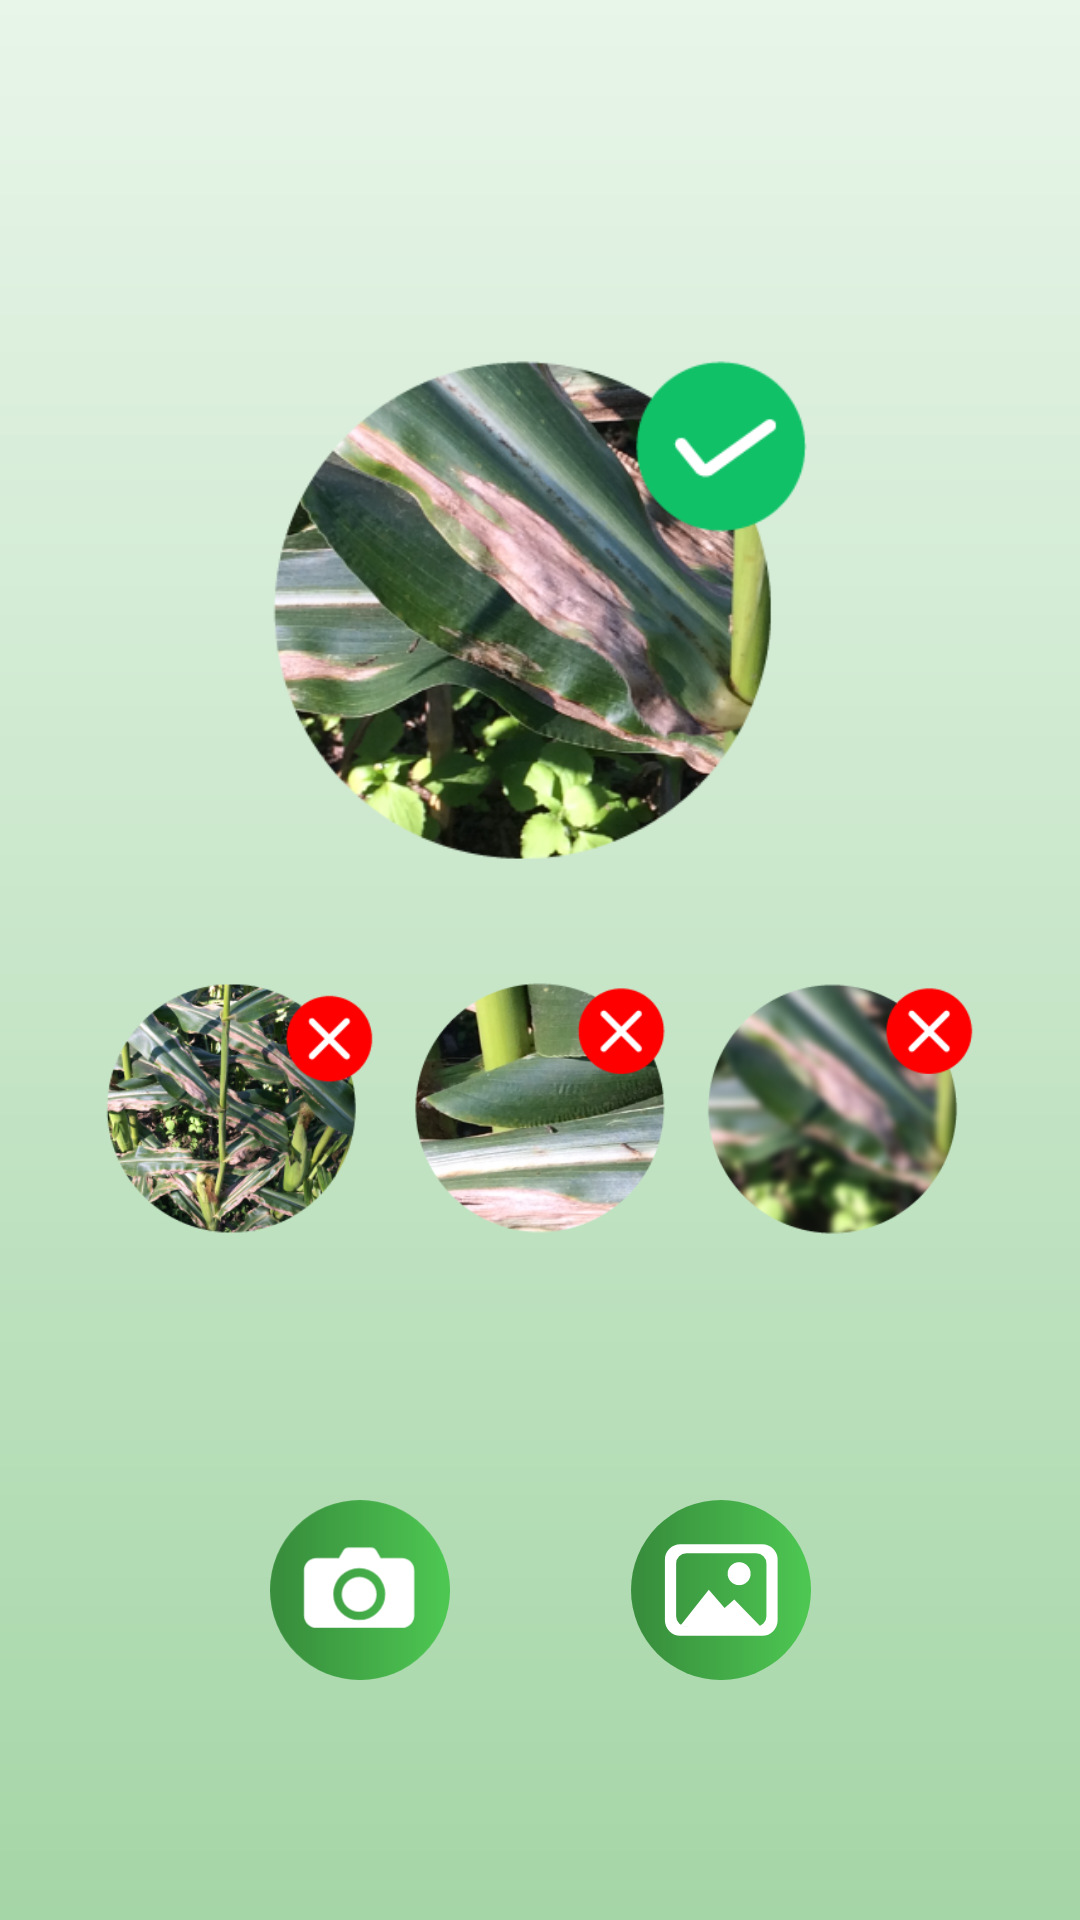

Locate icon controls on the screen. Image size 1080*1920, boxes as (x1, y1, x2, y2).
tips blurred: (708, 984, 973, 1234)
tips too close: (415, 983, 665, 1232)
tips too far: (107, 984, 373, 1233)
